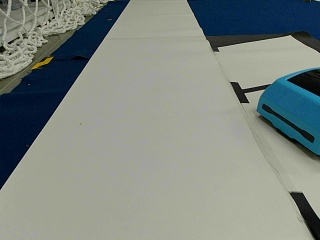car: (256, 65, 318, 158)
